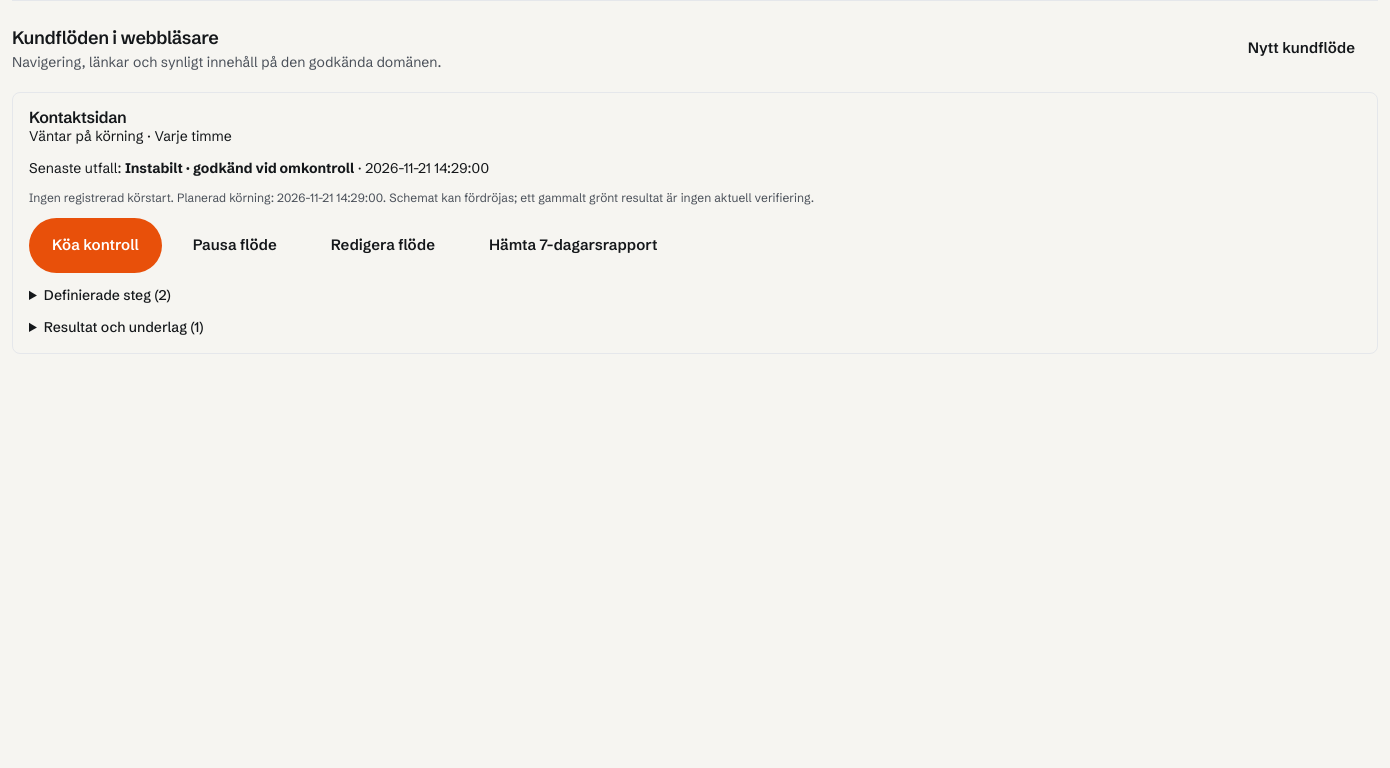
Aurora Watch flow administration › preserves first-attempt evidence on flaky results and renders only private signed screenshots
Step 1. Click the heading "Resultat och underlag (1)" → (124, 327), box x1=44 y1=318 x2=204 y2=336
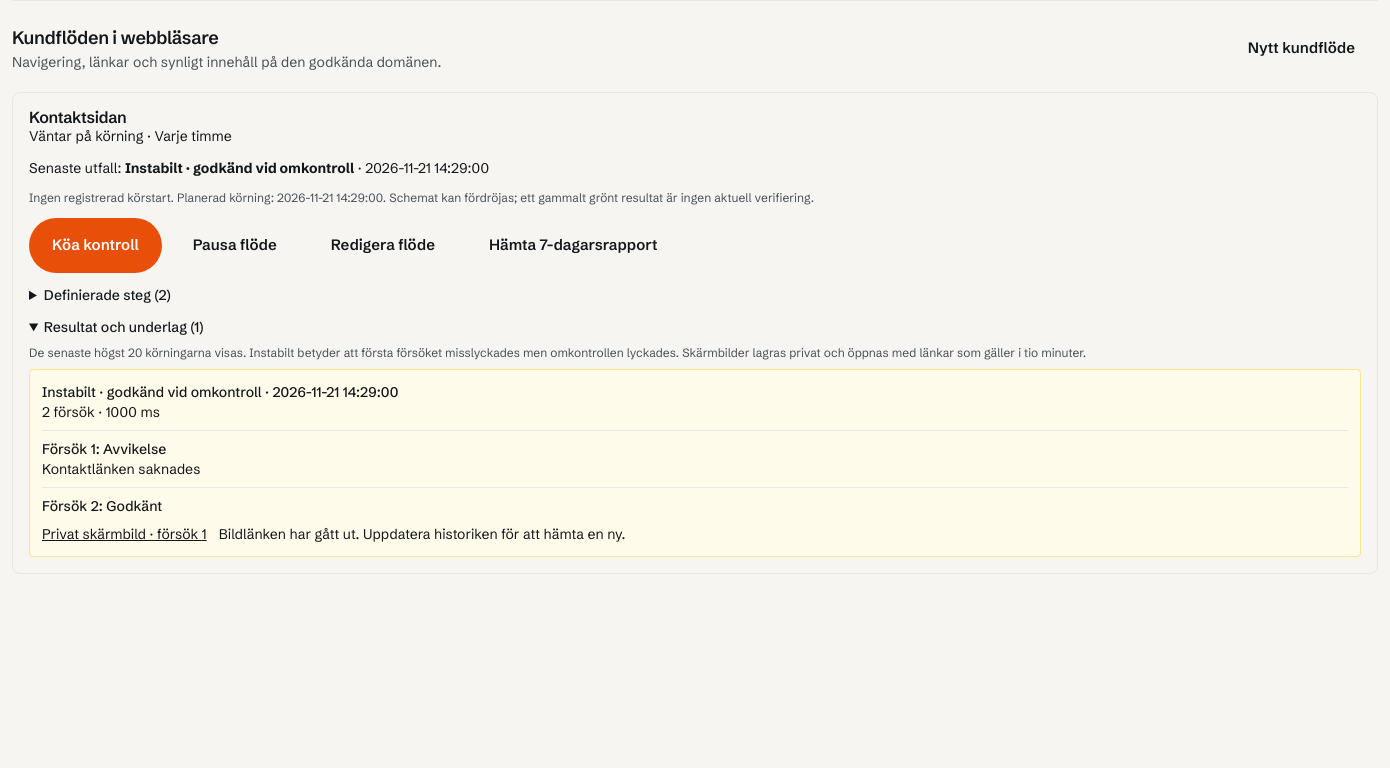
Expected: the text "Kontaktlänken saknades" is shown, x1=42 y1=460 x2=200 y2=478
Expected: the text "Försök 2: Godkänt" is shown, x1=42 y1=497 x2=162 y2=515
Expected: the text "Bildlänken har gått ut" is shown, x1=219 y1=525 x2=626 y2=543
